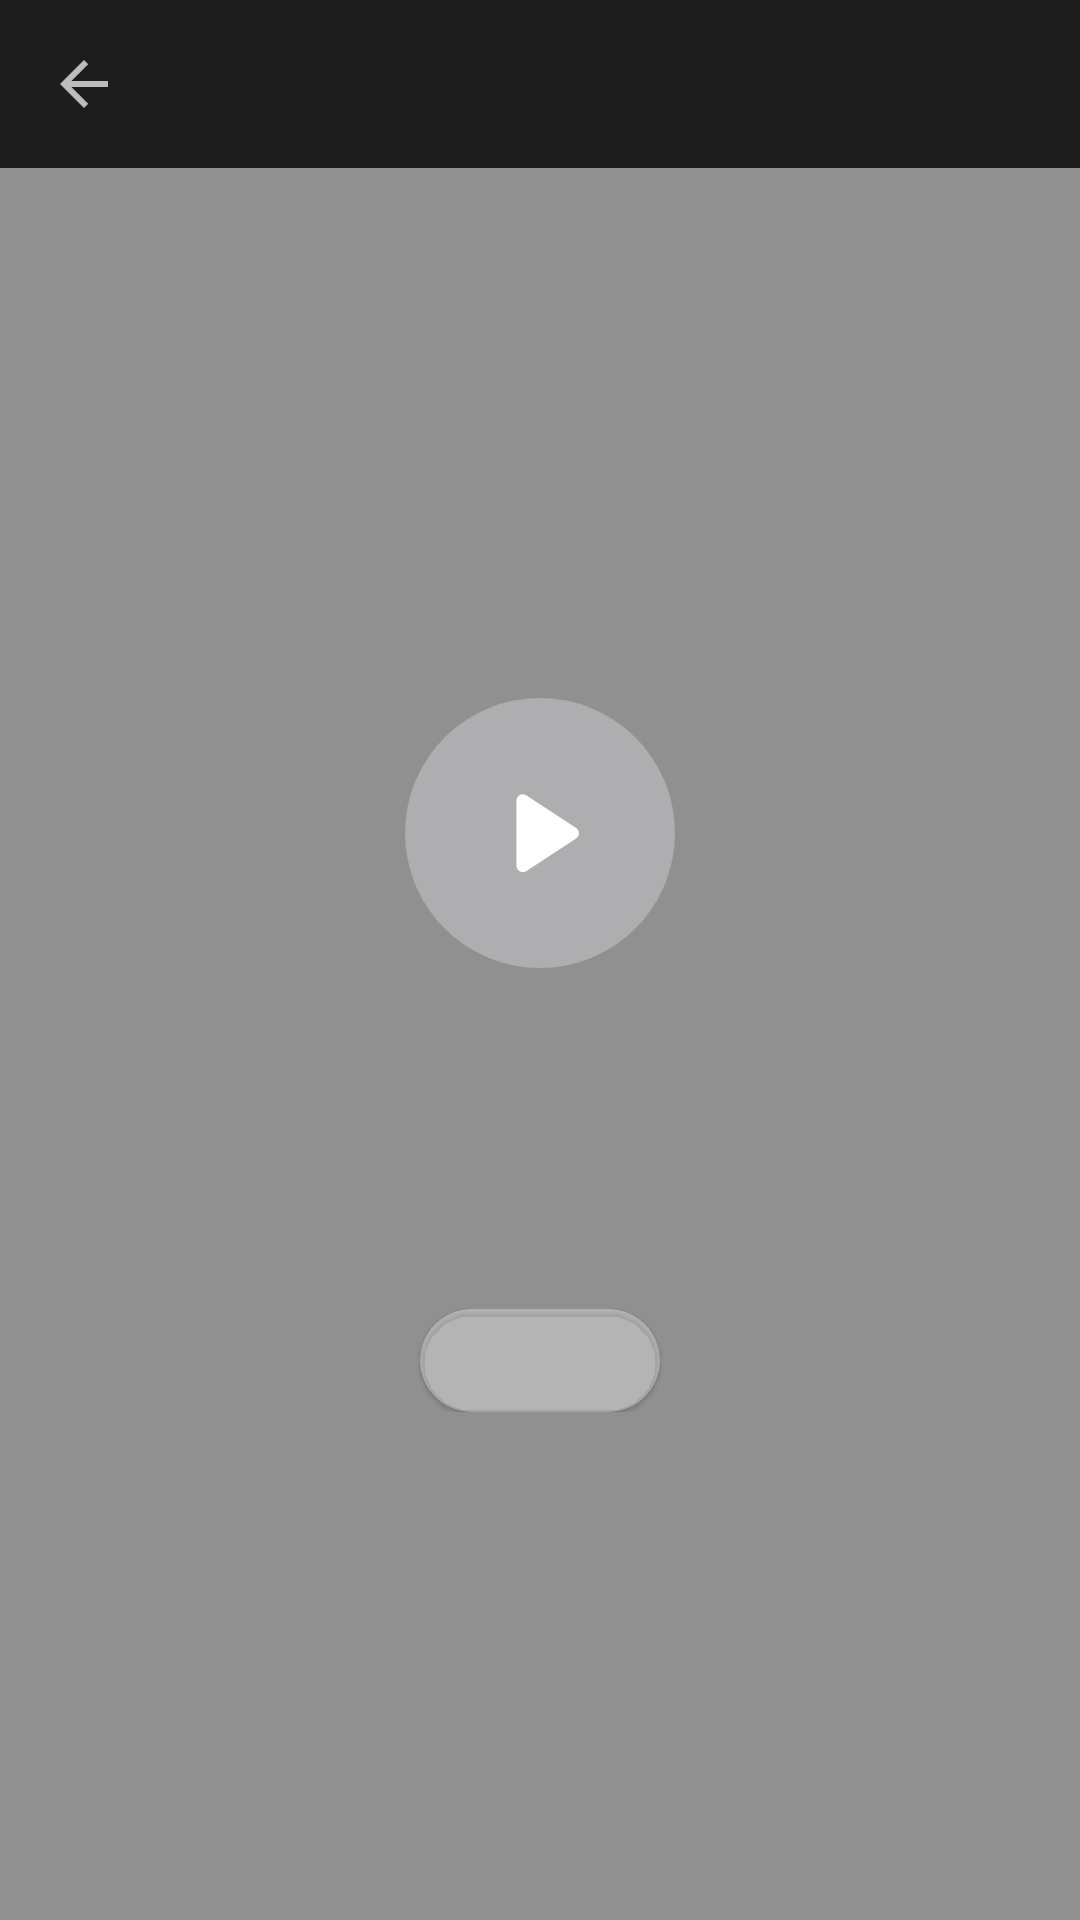

Screen size 1080×1920. Icon name, then its box in pixels as (x1, y1, x2, y2):
play: (405, 698, 675, 968)
